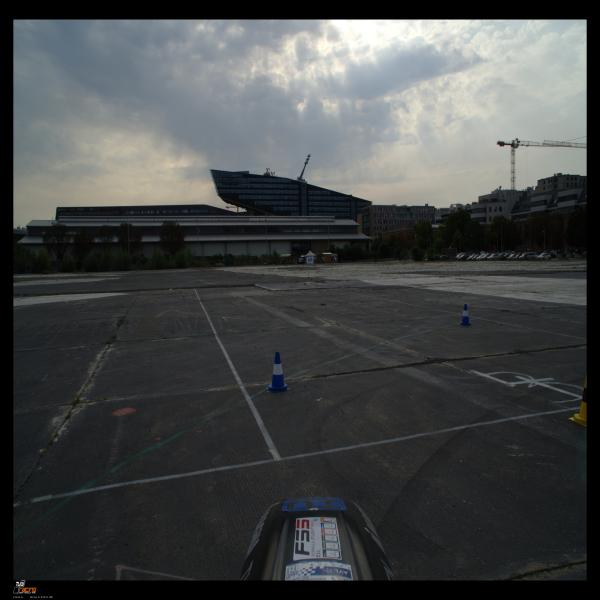blue_cone: (266, 351, 290, 393), (458, 304, 473, 326)
yellow_cone: (568, 373, 587, 427)
